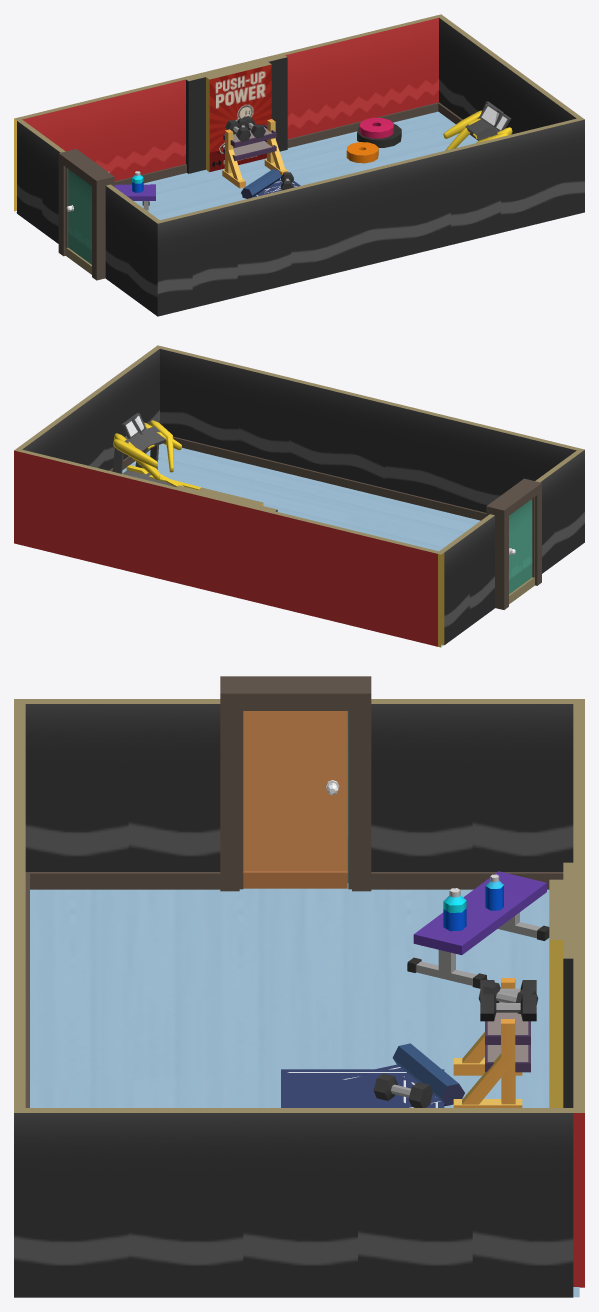
Rendered from Gym.fbx.
3 renders of one model, top to bottom at view 1: azimuth 30°, elevation 25°; view 2: azimuth 150°, elevation 25°; view 3: azimuth 270°, elevation 25°, orthographic. The views are drawn at different scales.
Visible parts, largest first — view 1: Gym Walls, Gym Floor.002, Gym Door Boundary, Duumbell n Mat, Gym Wall Peice, Gym Plates, Duumbell n Mat Mess, Treadmill Mess, Treadmill, Bench; view 2: Gym Walls, Gym Floor.002, Gym Door Boundary, Gym Wall Peice, Treadmill, Treadmill Mess; view 3: Gym Walls, Gym Floor.002, Gym Door, Gym Door Boundary, Duumbell n Mat Mess, Bench, Duumbell n Mat.
Part boxes in pixels (bbox=[...]): Gym Walls: bbox=[14, 14, 584, 316]; Gym Floor.002: bbox=[15, 111, 477, 220]; Gym Door Boundary: bbox=[58, 149, 114, 280]; Duumbell n Mat: bbox=[222, 116, 299, 196]; Gym Wall Peice: bbox=[65, 169, 91, 274]; Gym Plates: bbox=[346, 117, 401, 163]; Duumbell n Mat Mess: bbox=[223, 118, 300, 198]; Treadmill Mess: bbox=[445, 103, 511, 150]; Treadmill: bbox=[443, 101, 512, 138]; Bench: bbox=[108, 171, 155, 211]; Gym Walls: bbox=[14, 345, 584, 647]; Gym Floor.002: bbox=[122, 443, 480, 646]; Gym Door Boundary: bbox=[486, 478, 541, 609]; Gym Wall Peice: bbox=[509, 499, 534, 604]; Treadmill: bbox=[112, 413, 201, 489]; Treadmill Mess: bbox=[114, 416, 183, 486]; Gym Walls: bbox=[14, 699, 584, 1297]; Gym Floor.002: bbox=[30, 883, 579, 1297]; Gym Door: bbox=[243, 711, 347, 888]; Gym Door Boundary: bbox=[220, 676, 371, 891]; Duumbell n Mat Mess: bbox=[334, 982, 538, 1107]; Bench: bbox=[407, 871, 549, 988]; Duumbell n Mat: bbox=[281, 978, 536, 1107].
Bounding box in the file's own units: 11.67 × 2.56 × 6.64.
